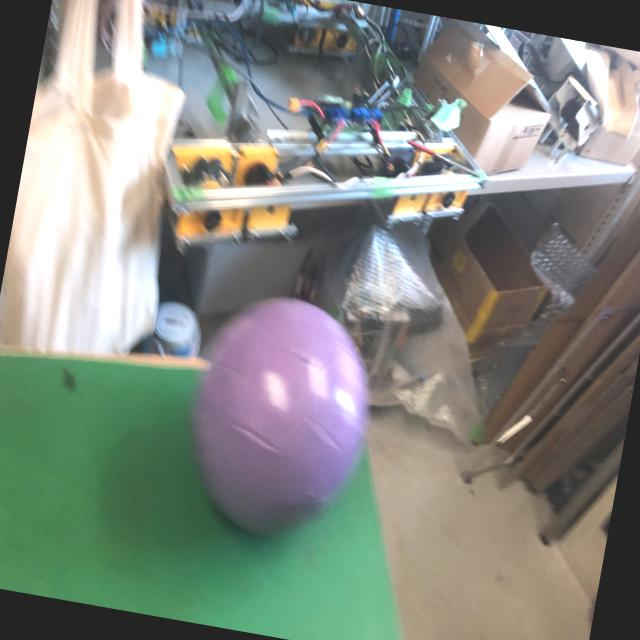purple_ball: (170, 287, 384, 551)
